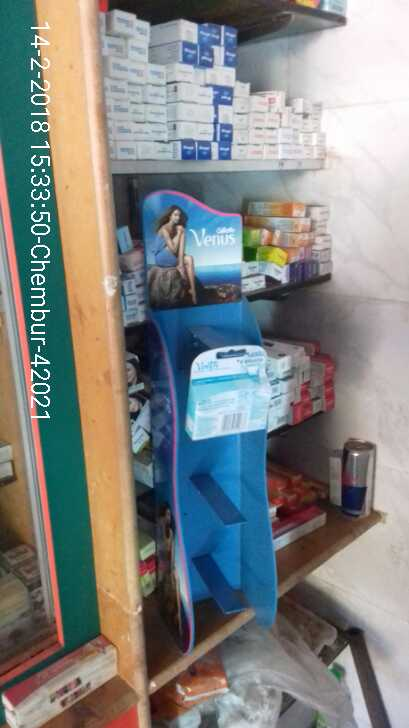reject: (150, 324, 224, 470)
